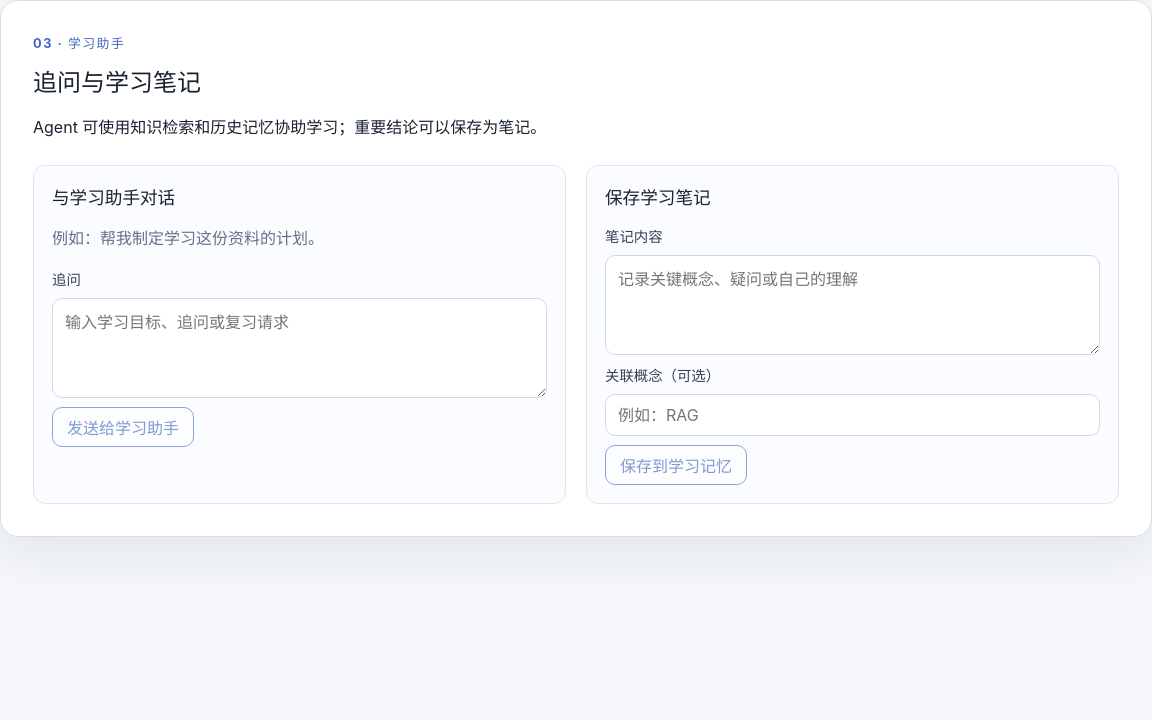
it: LearningAssistant › 保存笔记时提交可选概念并展示记忆 ID
In the text box labelled "笔记内容": (852, 305) [605,255,1100,355], type "RAG 的答案应该保留来源。"
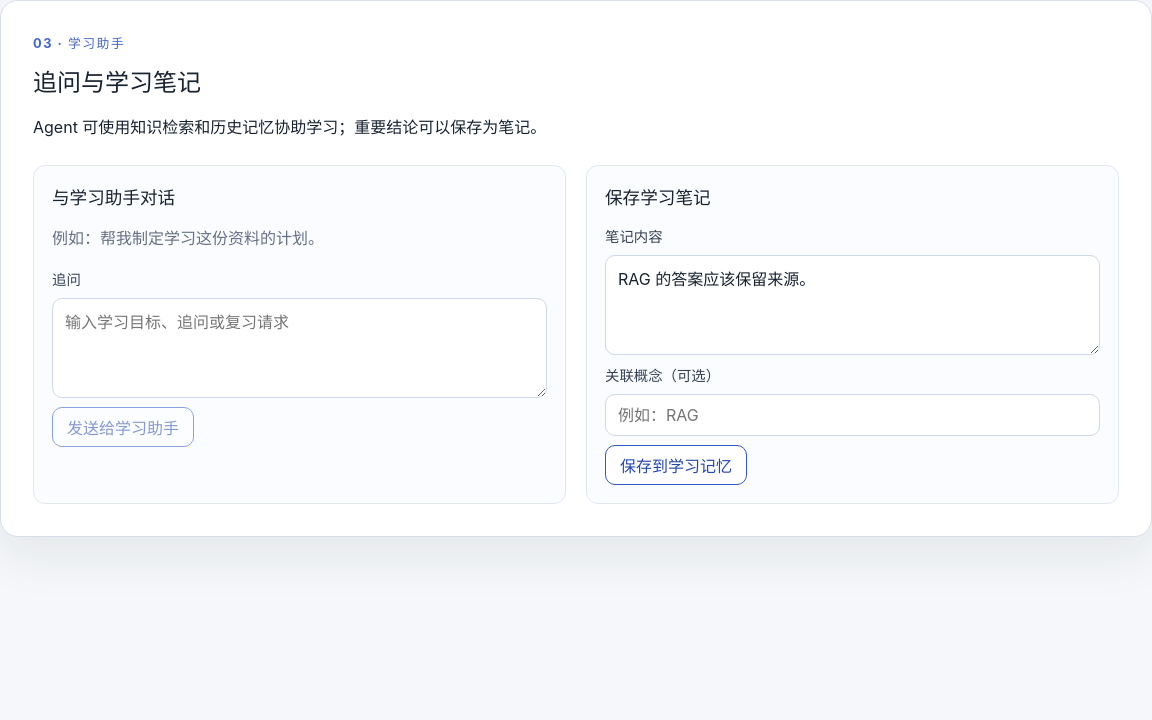
In the field labelled "关联概念（可选）": (852, 415) [605,394,1100,436], type "RAG"
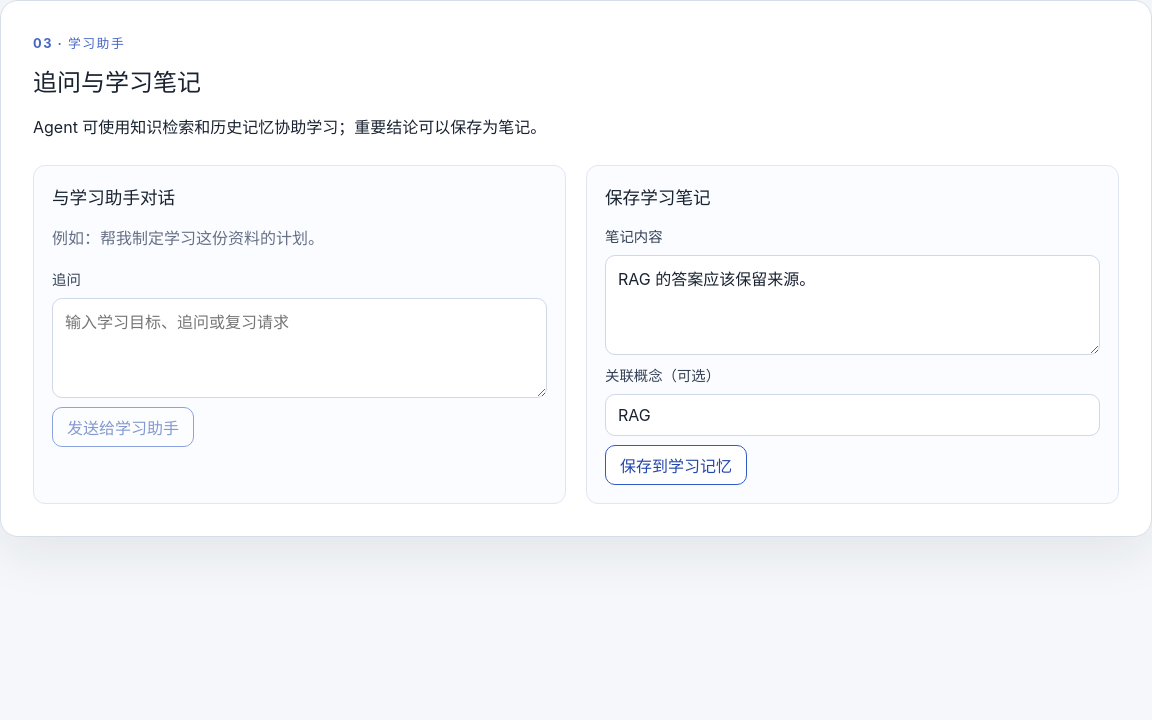
Click the button "保存到学习记忆": (676, 465) [605,445,747,485]
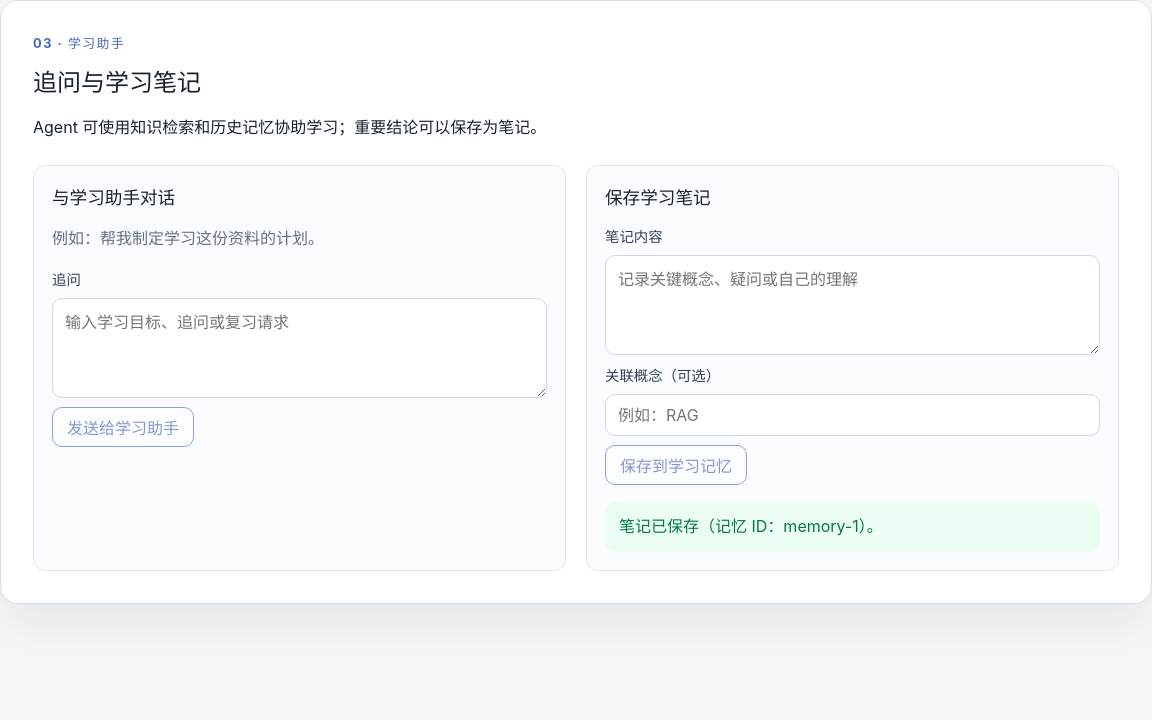
Expected: the text "笔记已保存（记忆 ID：memory-1）。" is shown, [605,501,1100,552]
